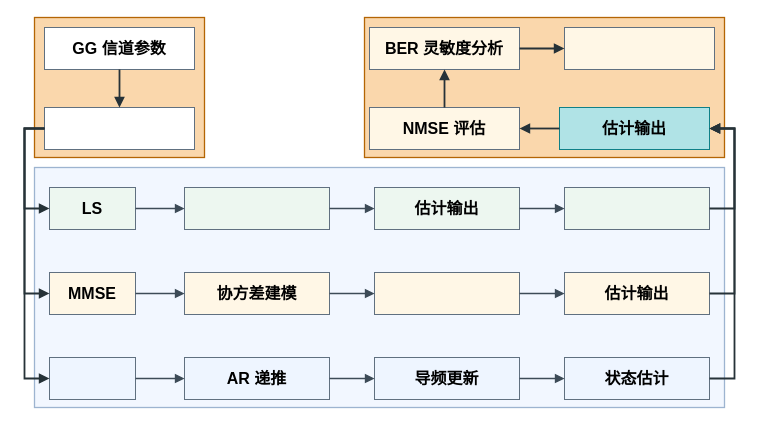
Image size: 761x426. Some labels were removed from this diagram. The shapes that lost their labels are listed below. From the top down, each one's box as (x1, y1, x2, y2) in pixels, then its label:
(564, 26, 714, 70): 精度设计准则
(44, 106, 194, 150): 导频图案设计
(184, 186, 330, 230): 导频相除
(564, 186, 710, 230): 误差序列
(374, 272, 520, 314): 加权滤波
(48, 356, 136, 400): KF
